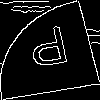P: (25, 25, 75, 77)
